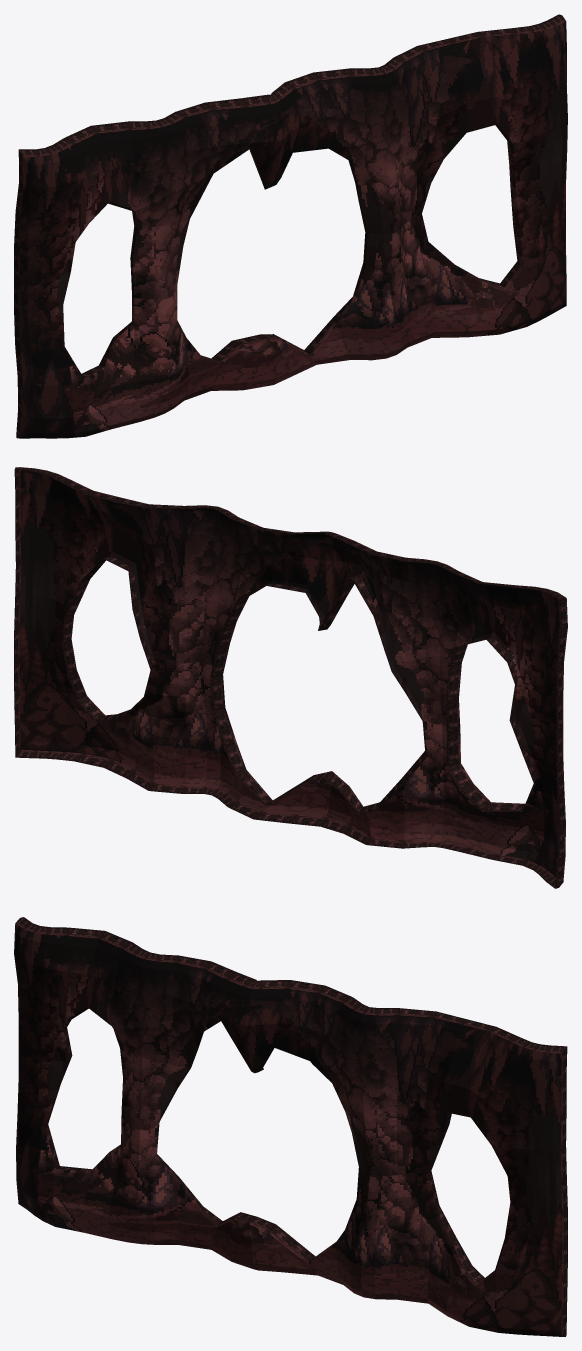
Rendered from BG_Cave_PixelArt.fbx.
3 renders of one model, top to bottom at view 1: azimuth 30°, elevation 25°; view 2: azimuth 150°, elevation 25°; view 3: azimuth 330°, elevation 25°, orthographic.
Parts seen in each view (by area): view 1: BG_Cave_PixelArt; view 2: BG_Cave_PixelArt; view 3: BG_Cave_PixelArt.
Boxes of the visible parts, box(x1,y1,x2,y2) form: BG_Cave_PixelArt: box(14, 14, 567, 438); BG_Cave_PixelArt: box(14, 467, 567, 888); BG_Cave_PixelArt: box(14, 917, 567, 1336).
Size of the model in its own units: 9.89 by 5.05 by 0.9187.
